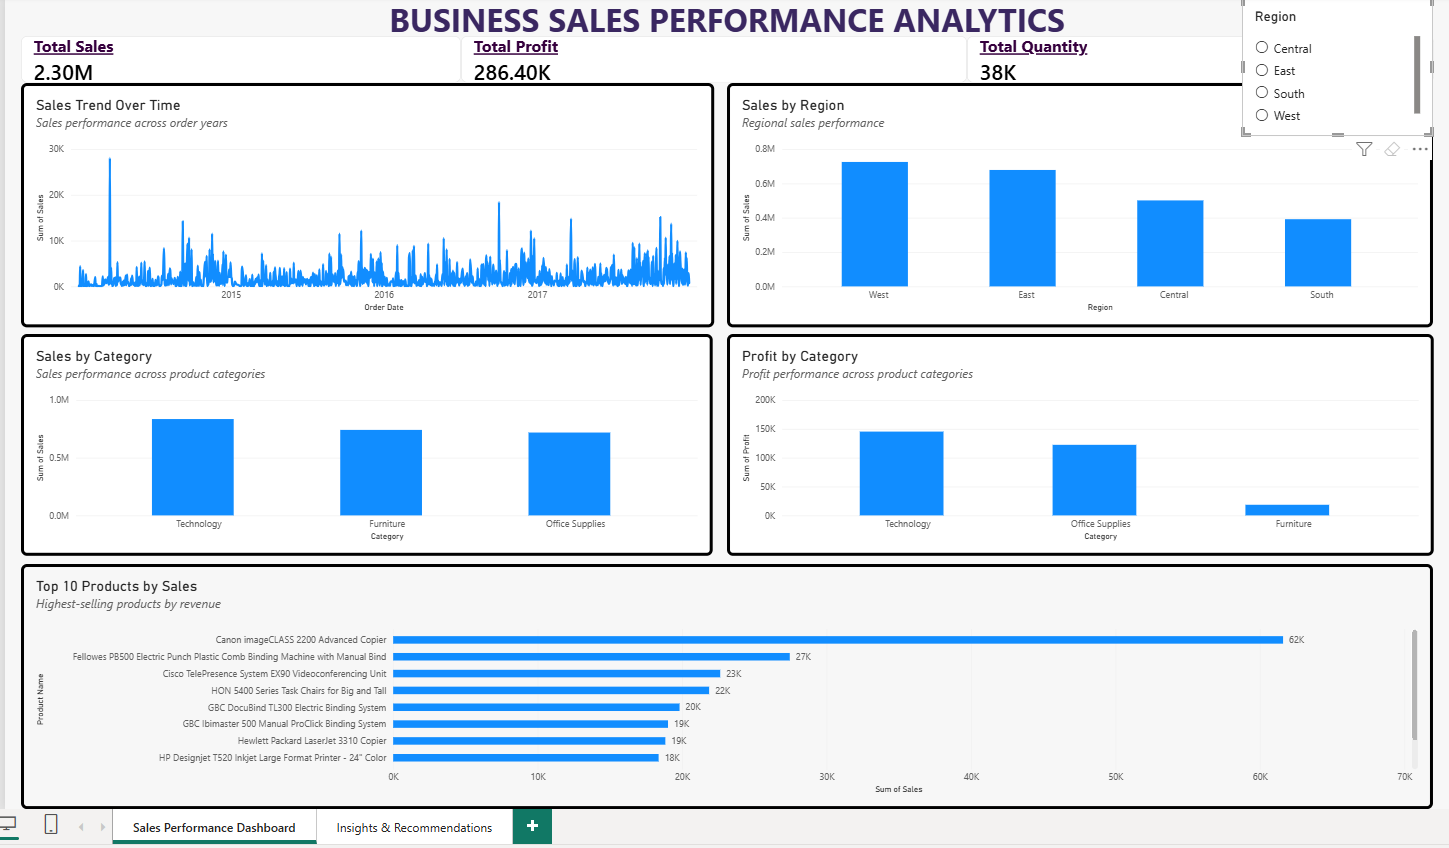

This screenshot's page, from the dashboard's own definition file:
{"tool":"powerbi","page":{"name":"Sales Performance Dashboard","canvas":[1920,1080],"ordinal":0},"visuals":[{"type":"cardVisual","fields":{"Data":["Sum(Sample - Superstore.Sales)"]},"box":[21.3,51.9,585.2,62.5],"z":0},{"type":"cardVisual","fields":{"Data":["Sum(Sample - Superstore.Profit)"]},"box":[606.5,51.9,673,62.5],"z":1},{"type":"cardVisual","fields":{"Data":["Sum(Sample - Superstore.Quantity)"]},"box":[1279.5,51.9,621.1,62.5],"z":2},{"type":"clusteredColumnChart","title":"Sales by Category","fields":{"Category":["Sample - Superstore.Category"],"Y":["Sum(Sample - Superstore.Sales)"]},"box":[21.3,448.2,920.4,295.3],"z":3},{"type":"clusteredColumnChart","title":"Sales by Region","fields":{"Category":["Sample - Superstore.Region"],"Y":["Sum(Sample - Superstore.Sales)"]},"box":[960.3,114.4,939,324.5],"z":4},{"type":"lineChart","title":"Sales Trend Over Time","fields":{"Category":["Sample - Superstore.Order Date"],"Y":["Sum(Sample - Superstore.Sales)"]},"box":[21.3,114.4,921.7,324.5],"z":5},{"type":"clusteredBarChart","title":"Top 10 Products by Sales","fields":{"Category":["Sample - Superstore.Product Name"],"Y":["Sum(Sample - Superstore.Sales)"]},"box":[21.3,754.1,1878,325.9],"z":6},{"type":"clusteredColumnChart","title":"Profit by Category","fields":{"Category":["Sample - Superstore.Category"],"Y":["Sum(Sample - Superstore.Profit)"]},"box":[960.3,448.2,940.3,295.3],"z":7},{"type":"textbox","box":[21.3,0,1878,81.1],"z":8},{"type":"listSlicer","fields":{"Values":["Sample - Superstore.Region"]},"box":[1645.3,0,254,184.9],"z":9}]}

Visuals, with their boxes in screenshot pixels (x1, y1, x2, y2):
cardVisual - Sum(Sample - Superstore.Sales): BBox(27, 35, 463, 81)
cardVisual - Sum(Sample - Superstore.Profit): BBox(463, 35, 964, 81)
cardVisual - Sum(Sample - Superstore.Quantity): BBox(964, 35, 1426, 81)
"Sales by Category" clusteredColumnChart: BBox(27, 330, 712, 550)
"Sales by Region" clusteredColumnChart: BBox(726, 81, 1425, 323)
"Sales Trend Over Time" lineChart: BBox(27, 81, 713, 323)
"Top 10 Products by Sales" clusteredBarChart: BBox(27, 557, 1425, 800)
"Profit by Category" clusteredColumnChart: BBox(726, 330, 1426, 550)
textbox: BBox(27, 0, 1425, 57)
listSlicer - Sample - Superstore.Region: BBox(1236, 0, 1425, 134)
